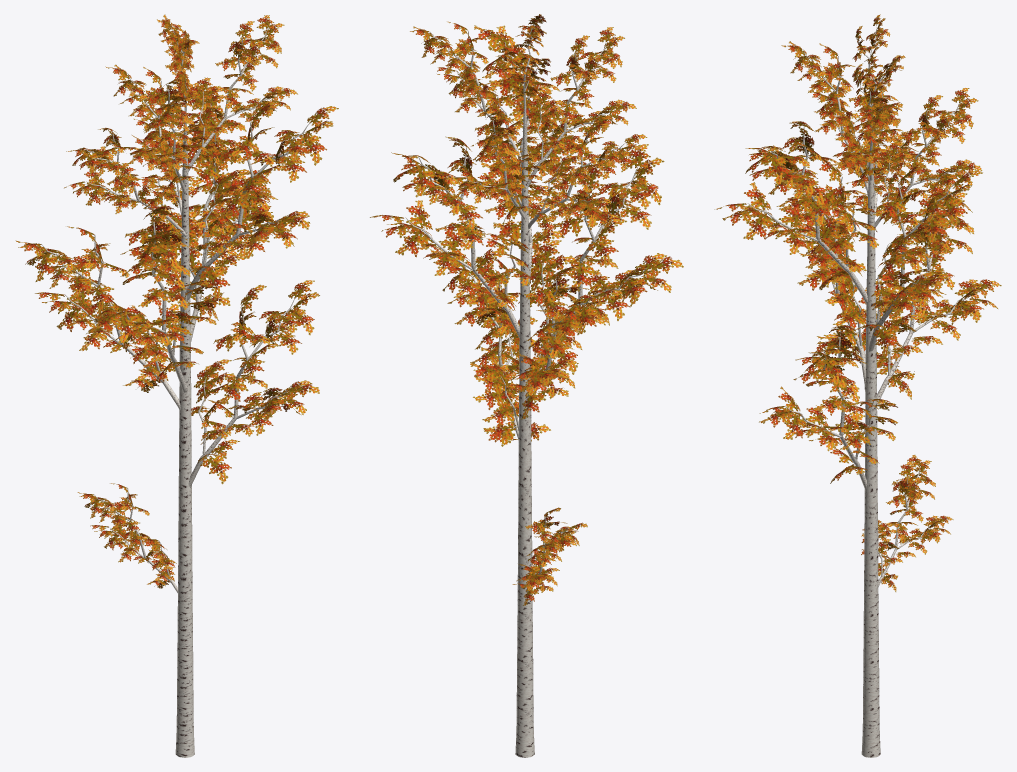
Rendered from Small_Tree.fbx.
The picture shows the model from 3 angles, left to right: view 1: azimuth 30°, elevation 25°; view 2: azimuth 150°, elevation 25°; view 3: azimuth 270°, elevation 25°; orthographic projection. The views are drawn at different scales.
Parts seen in each view (by area): view 1: small_tree2; view 2: small_tree2; view 3: small_tree2.
Boxes of the visible parts, x1,y1,x2,y2 form: small_tree2: (15,14,338,757); small_tree2: (370,14,683,757); small_tree2: (714,14,1001,757).
Size of the model in its own units: 856 by 2376 by 854.
